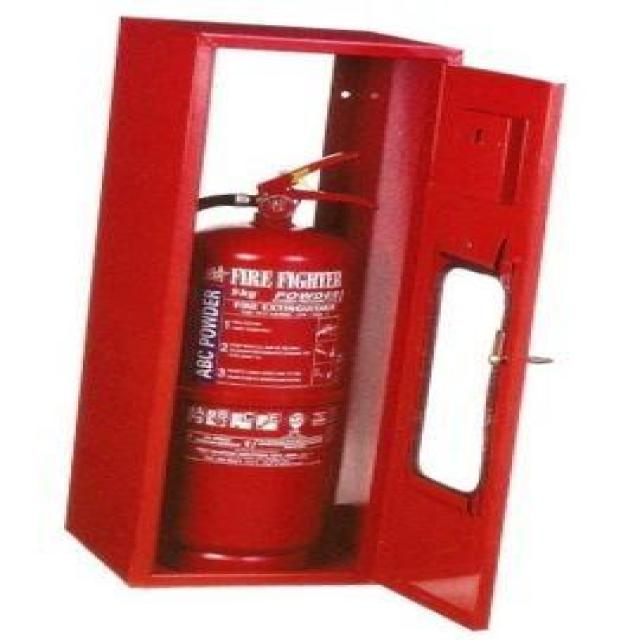fire_extinguisher: (114, 142, 389, 584)
